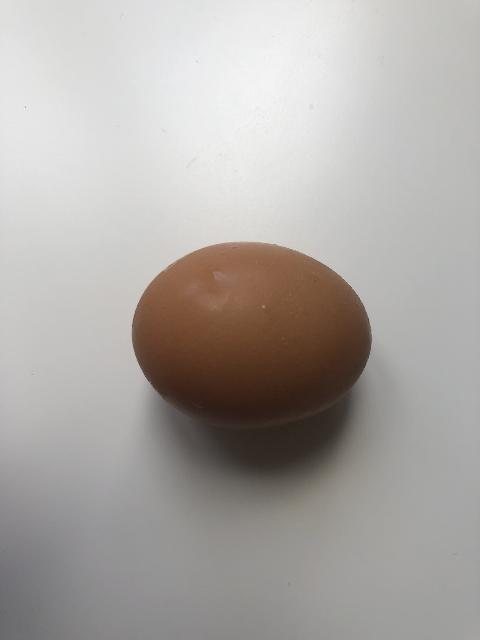Sano: (130, 240, 373, 431)
